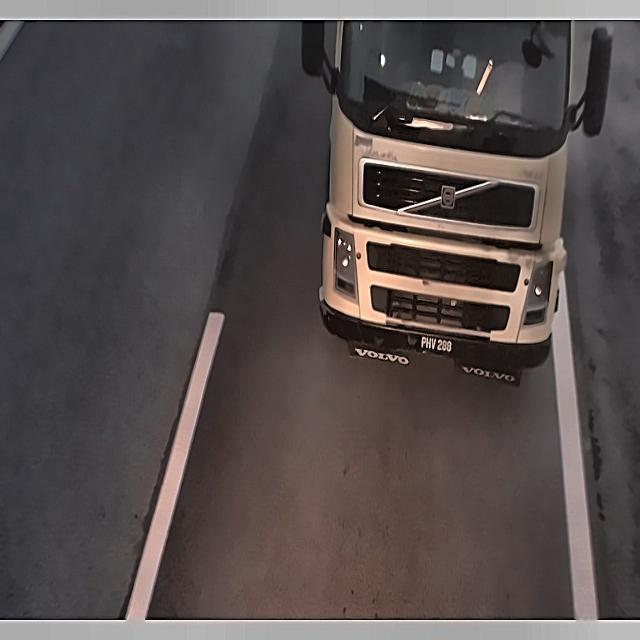car: (418, 331, 458, 361)
